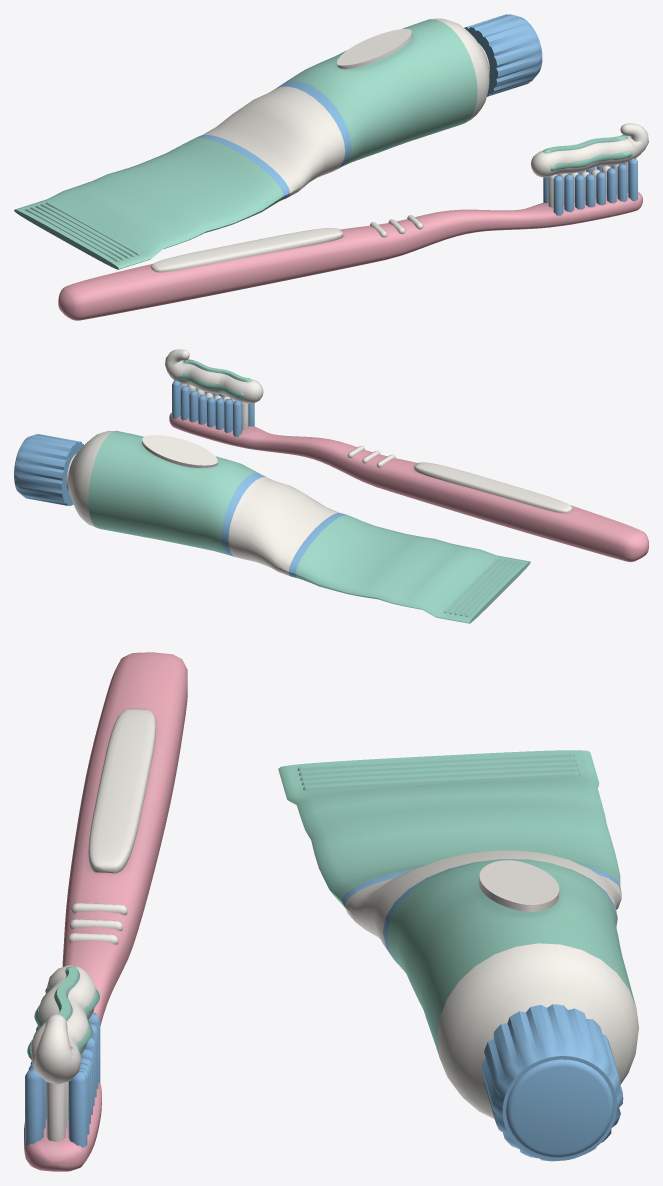
The model's file is pasta_dientes.glb.
The picture shows the model from 3 angles, top to bottom: view 1: azimuth 30°, elevation 25°; view 2: azimuth 150°, elevation 25°; view 3: azimuth 270°, elevation 25°; orthographic projection. The views are drawn at different scales.
Visible parts, largest first — view 1: toothpaste_body; view 2: toothpaste_body; view 3: toothpaste_body.
Boxes of the visible parts, x1,y1,x2,y2 form: toothpaste_body: (14, 14, 648, 320); toothpaste_body: (14, 349, 648, 623); toothpaste_body: (24, 652, 638, 1171).
Bounding box in the file's own units: 0.1985 × 0.0339 × 0.1011.
2 materials, 2 textured.
